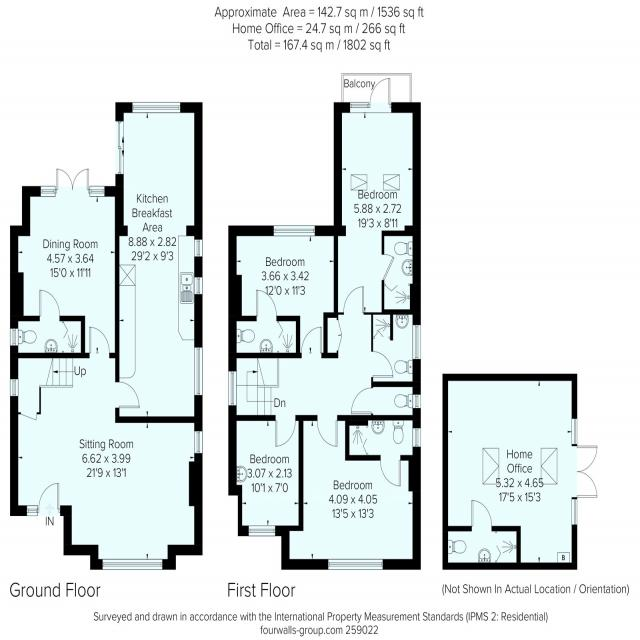DOOR: (114, 380, 141, 410), (274, 414, 297, 448), (379, 454, 402, 488), (471, 498, 494, 532), (38, 482, 60, 517), (316, 414, 338, 448), (39, 289, 61, 322), (89, 326, 111, 359), (256, 289, 278, 322), (350, 386, 375, 415), (369, 77, 391, 109), (370, 350, 394, 379), (301, 326, 322, 359), (343, 286, 365, 315), (381, 253, 396, 282)
DOUBLE DOOR: (576, 443, 599, 500), (56, 168, 89, 194)
ROOM: (9, 325, 203, 571), (440, 369, 596, 567), (114, 102, 203, 424), (10, 167, 129, 358), (281, 414, 421, 570), (333, 77, 421, 315), (228, 225, 339, 358), (228, 415, 304, 537)
WINDOW: (102, 558, 163, 571), (327, 558, 384, 570), (131, 101, 181, 114), (193, 346, 203, 397), (273, 225, 315, 237), (228, 370, 238, 407), (412, 324, 422, 361), (248, 525, 276, 537), (193, 430, 203, 455), (89, 185, 106, 198), (193, 276, 204, 296), (40, 185, 56, 198), (9, 378, 19, 398), (193, 238, 203, 258), (412, 427, 421, 449), (571, 498, 578, 526), (9, 328, 19, 347), (571, 418, 578, 445), (26, 504, 38, 517), (412, 393, 421, 409), (349, 102, 369, 109)
